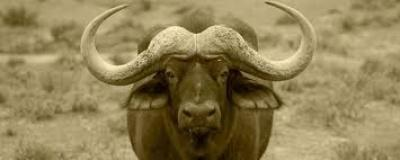buffalo: (80, 1, 316, 159)
